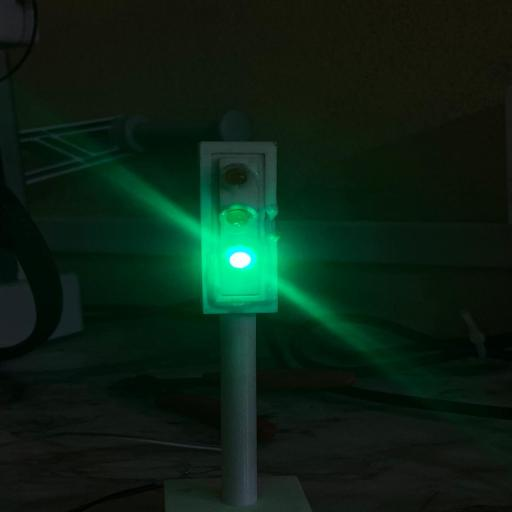Green Light: (230, 252, 251, 268)
